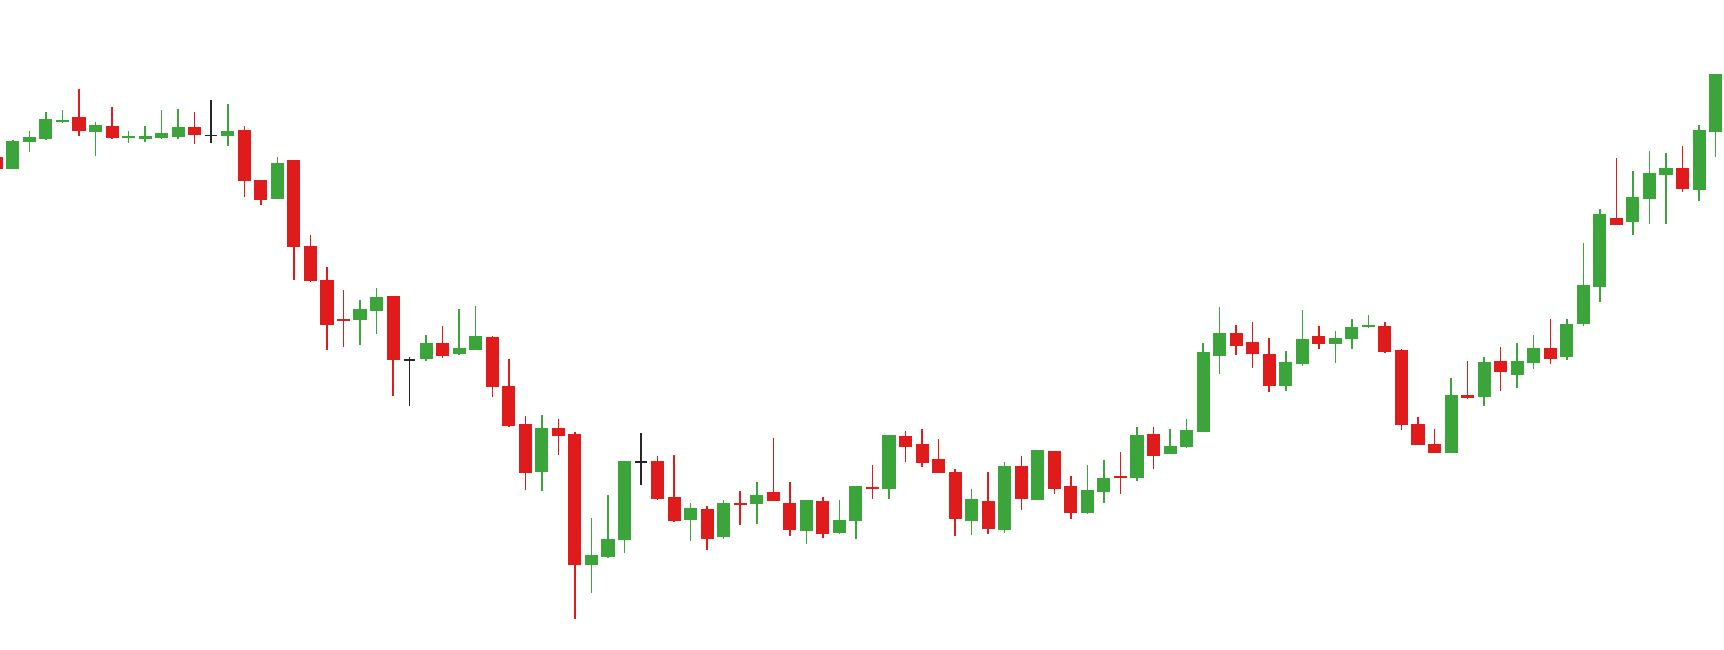buy: (1193, 344, 1461, 466)
